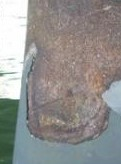Corrosion: (24, 1, 121, 145)
